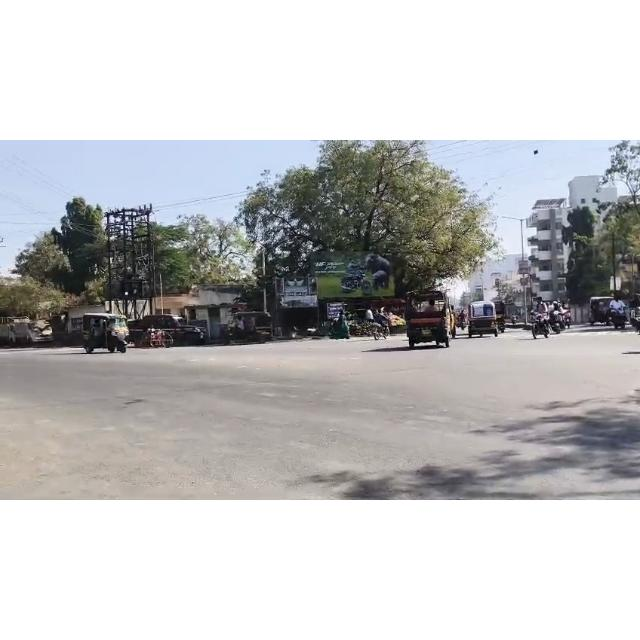auto: (404, 287, 458, 351), (80, 308, 132, 355), (226, 308, 278, 347), (464, 298, 501, 338), (589, 294, 617, 328)
